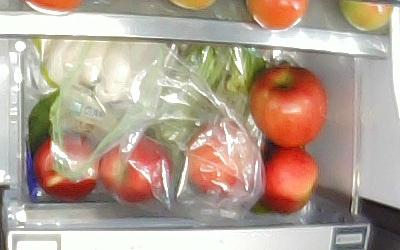apple: (250, 66, 327, 147), (260, 146, 318, 214)
apple_vinyl: (185, 123, 252, 197), (100, 137, 172, 204), (32, 135, 99, 201)
